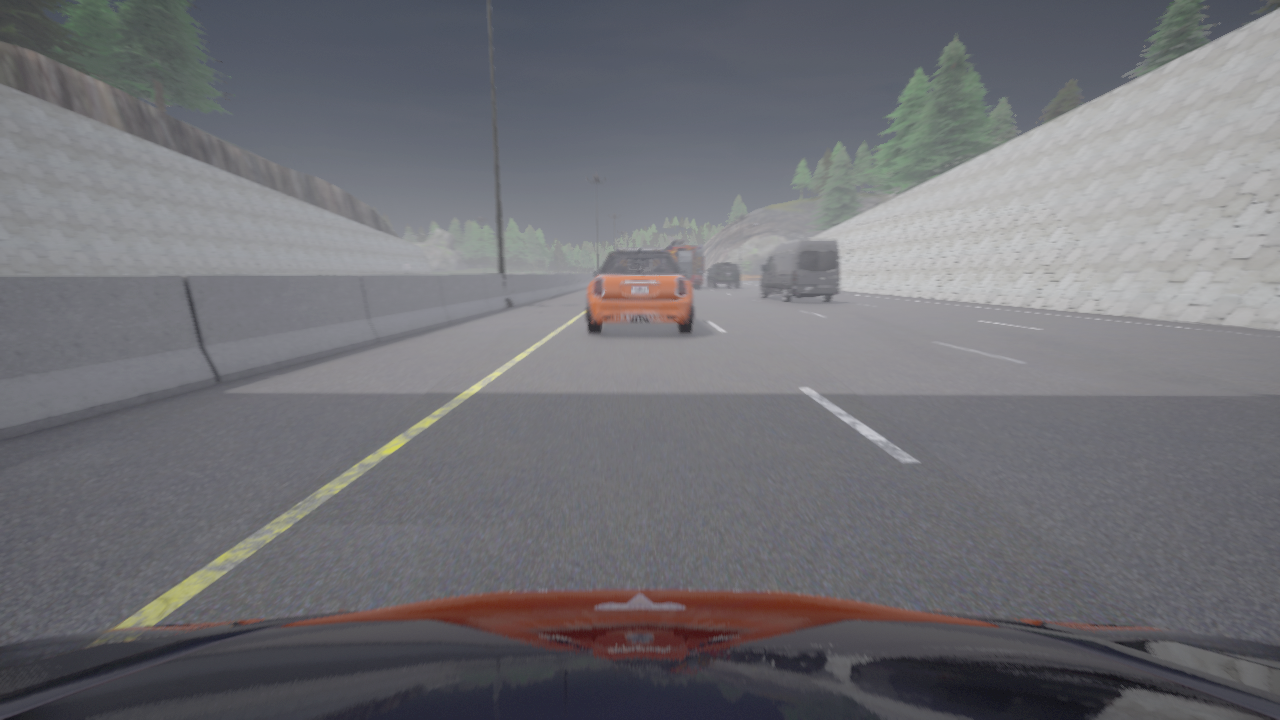cyclist: (0, 588, 1279, 719), (586, 249, 693, 333), (760, 239, 840, 302), (664, 239, 703, 288), (706, 263, 739, 287), (617, 248, 662, 250)
